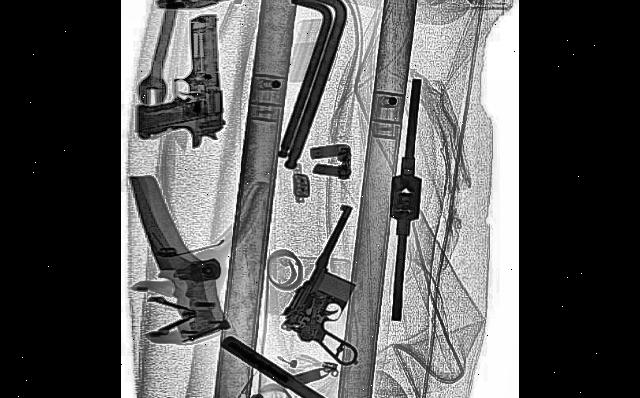Gun: (278, 191, 397, 398), (128, 11, 225, 162)
Pliers: (152, 0, 366, 33)
Wrench: (133, 0, 202, 115)
